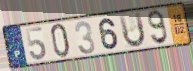0: (50, 22, 72, 59)
3: (74, 19, 96, 55)
5: (24, 25, 48, 61)
6: (98, 17, 120, 51)
9: (147, 9, 170, 46)
U: (117, 11, 147, 49)
